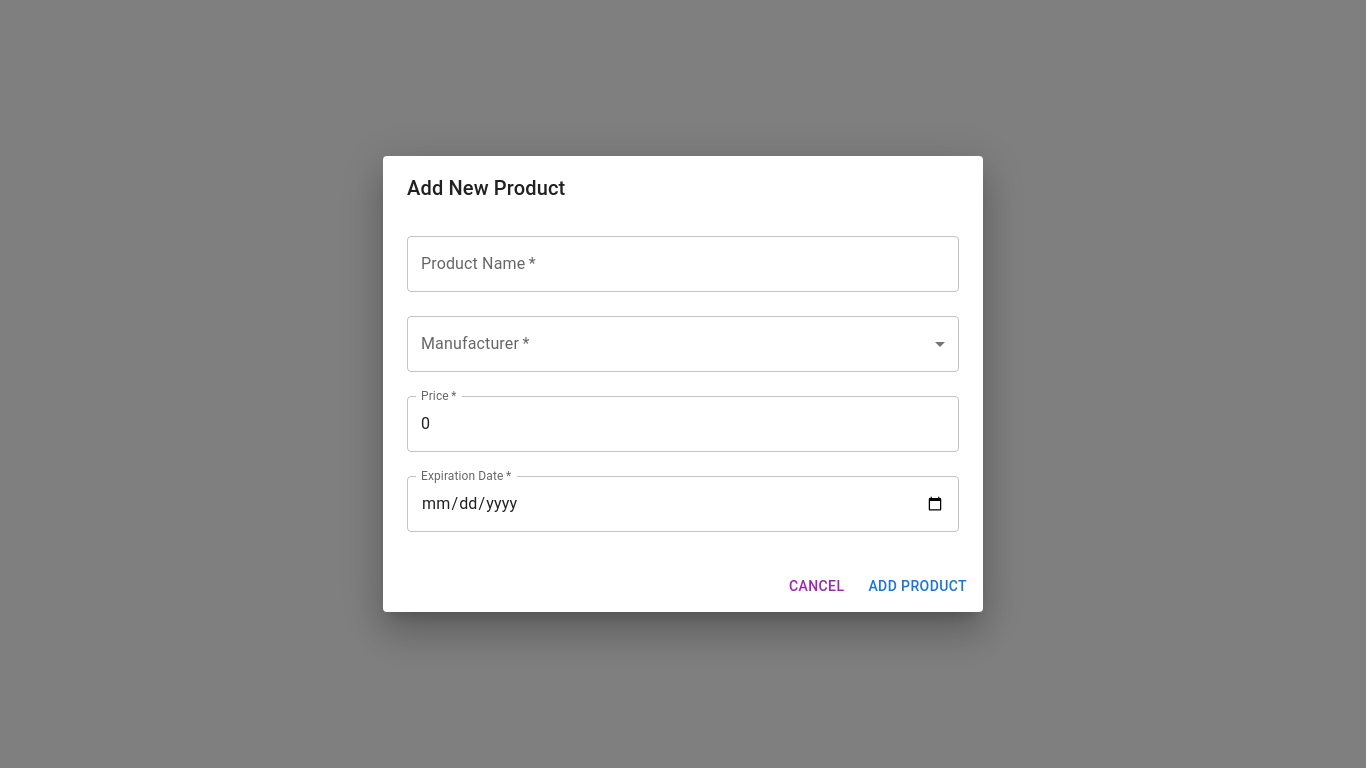
Scenario: ProductModal Component › validates form fields
Click the button "Add Product" at (918, 586), box [860,568,975,604]
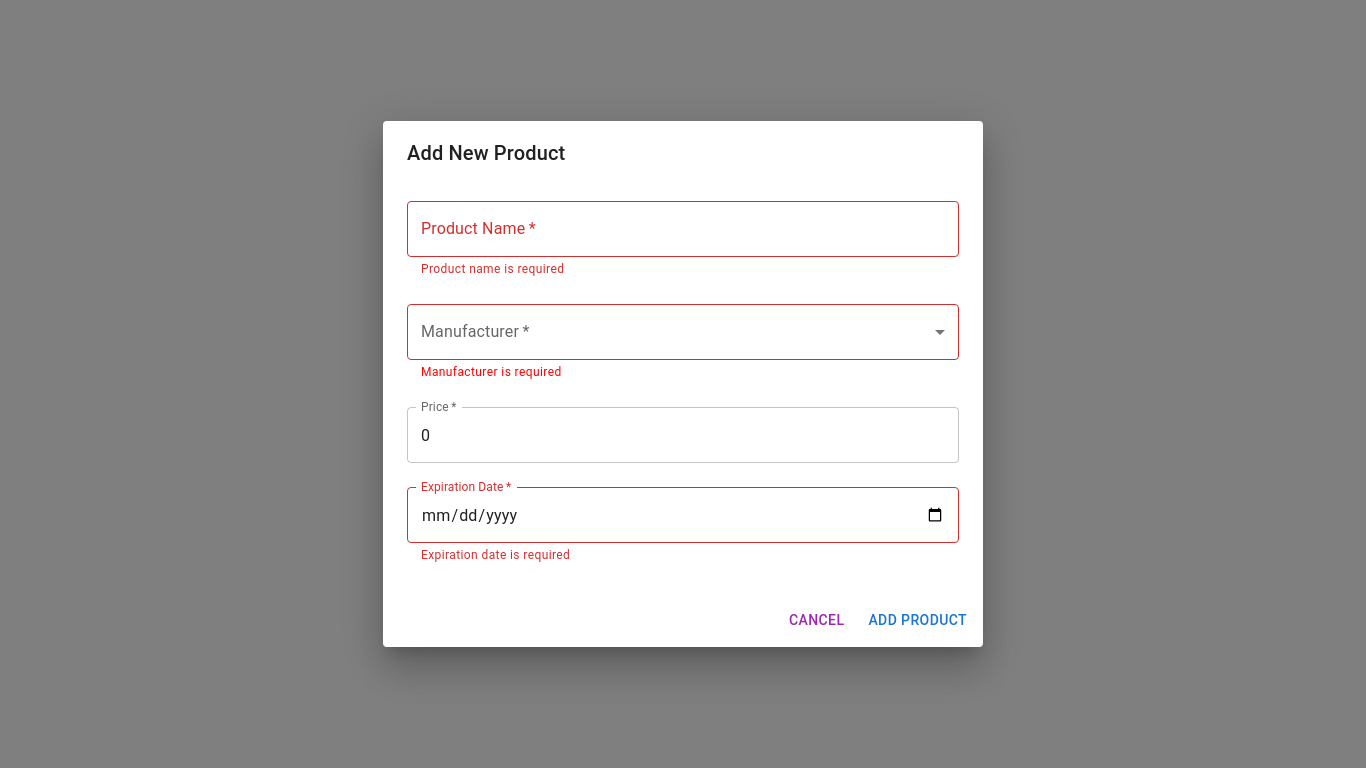
Now the text "Product name is required" is shown, box [421,262,564,276]
Now the text "Manufacturer is required" is shown, box [421,365,562,379]
Now the text "Expiration date is required" is shown, box [421,548,570,562]
